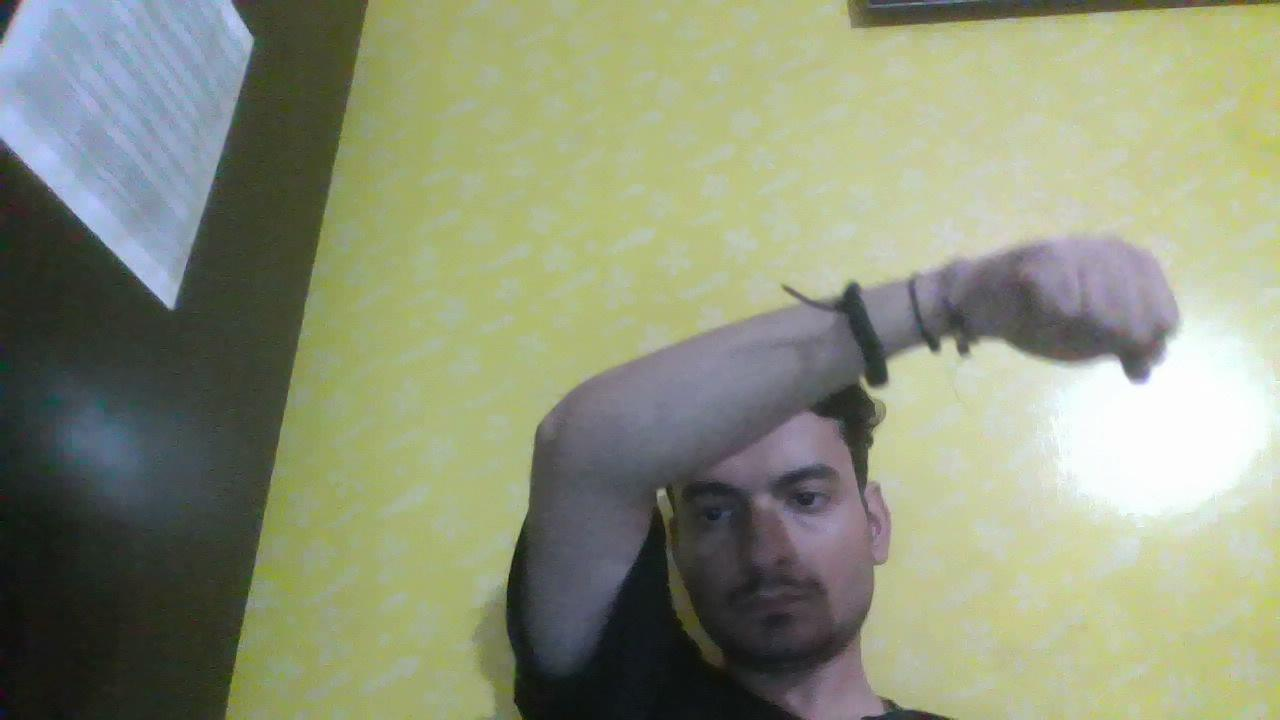Yes: (959, 185, 1222, 409)
